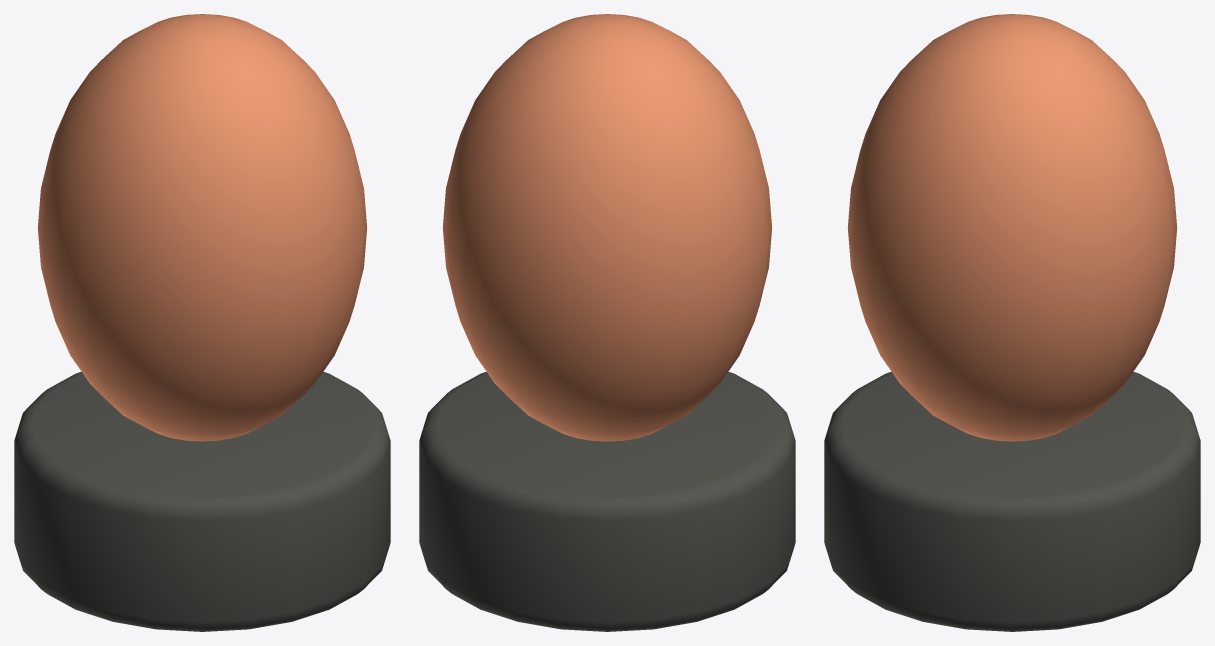
File: approval-beacon.glb
3 views of the same model, side by side, from view 1: azimuth 30°, elevation 25°; view 2: azimuth 150°, elevation 25°; view 3: azimuth 270°, elevation 25° (orthographic).
Parts seen in each view (by area): view 1: light, base.009; view 2: light, base.009; view 3: light, base.009.
Boxes of the visible parts, x1=… form: light: x1=37, y1=14, x2=367, y2=441; base.009: x1=14, y1=372, x2=390, y2=631; light: x1=442, y1=14, x2=772, y2=441; base.009: x1=419, y1=372, x2=795, y2=631; light: x1=847, y1=14, x2=1177, y2=441; base.009: x1=824, y1=372, x2=1200, y2=631.
Bounding box in the file's own units: 0.2688 × 0.42 × 0.2688.
